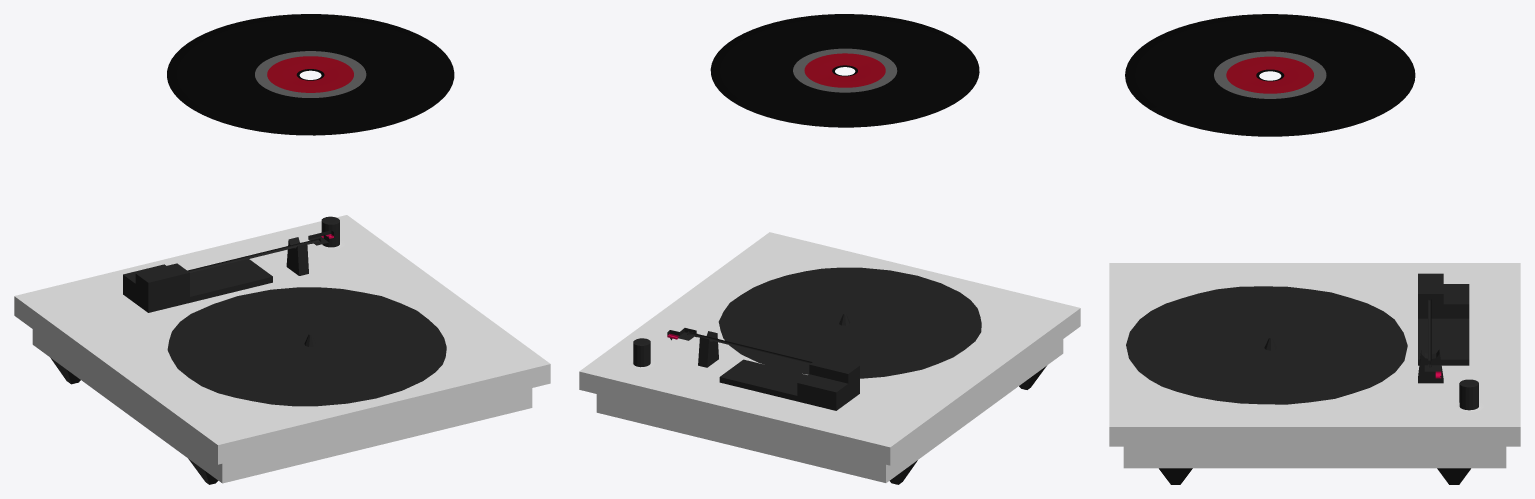
File: disque_fbx.fbx
3 renders of one model, left to right at view 1: azimuth 30°, elevation 25°; view 2: azimuth 150°, elevation 25°; view 3: azimuth 270°, elevation 25°, orthographic. The views are drawn at different scales.
Parts seen in each view (by area): view 1: tourne-disque, disque; view 2: tourne-disque, disque; view 3: tourne-disque, disque.
Boxes of the visible parts, x1,y1,x2,y2 form: tourne-disque: (14,215,550,484); disque: (167,14,454,135); tourne-disque: (579,232,1080,484); disque: (710,14,979,127); tourne-disque: (1109,263,1520,484); disque: (1125,14,1415,136).
Size of the model in its own units: 430 by 417 by 456.
